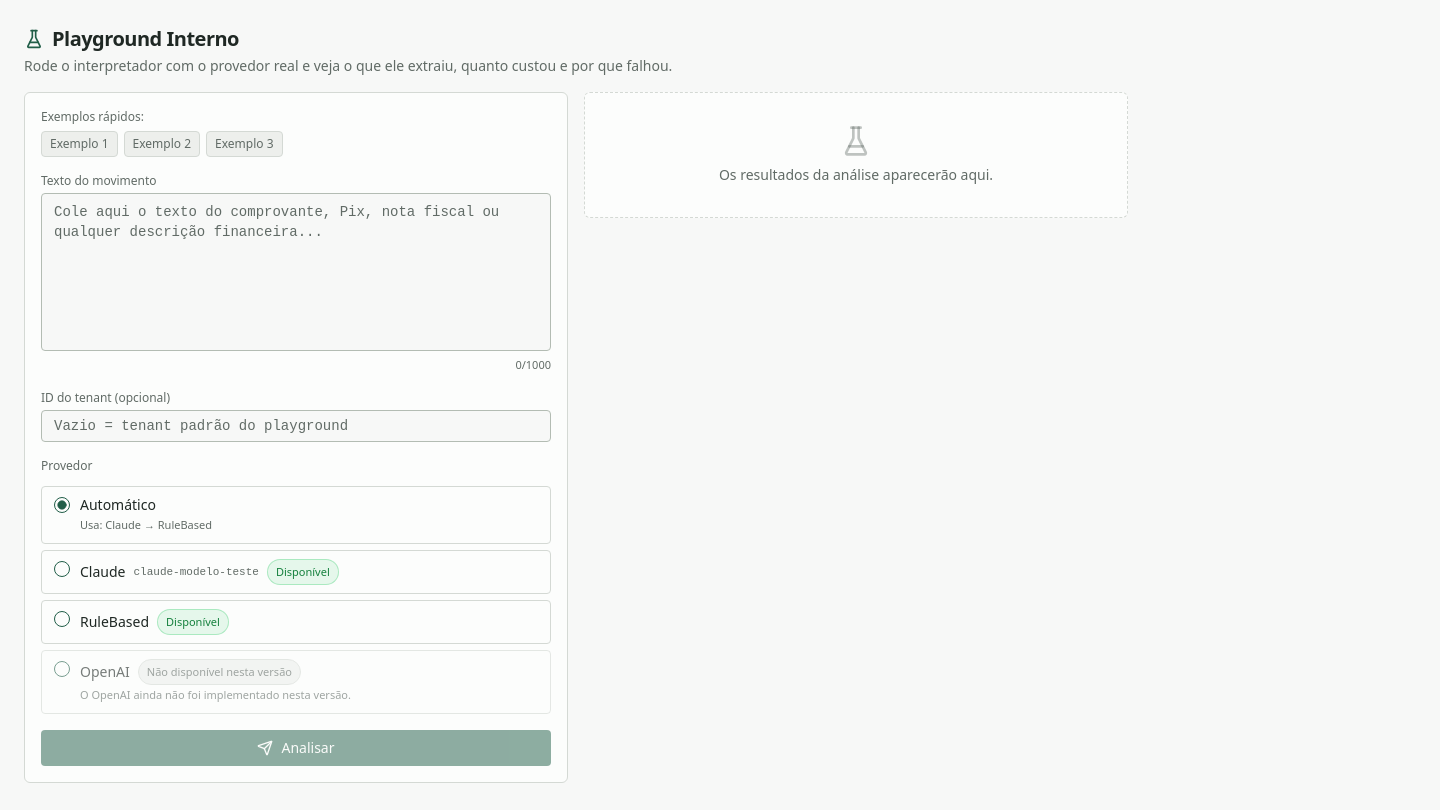
Test: AiPlaygroundPage › shows a provider failure (503) with message, code, reason and requestId
Click the radio button named "Claude" at (62, 568), box [54,560,70,576]
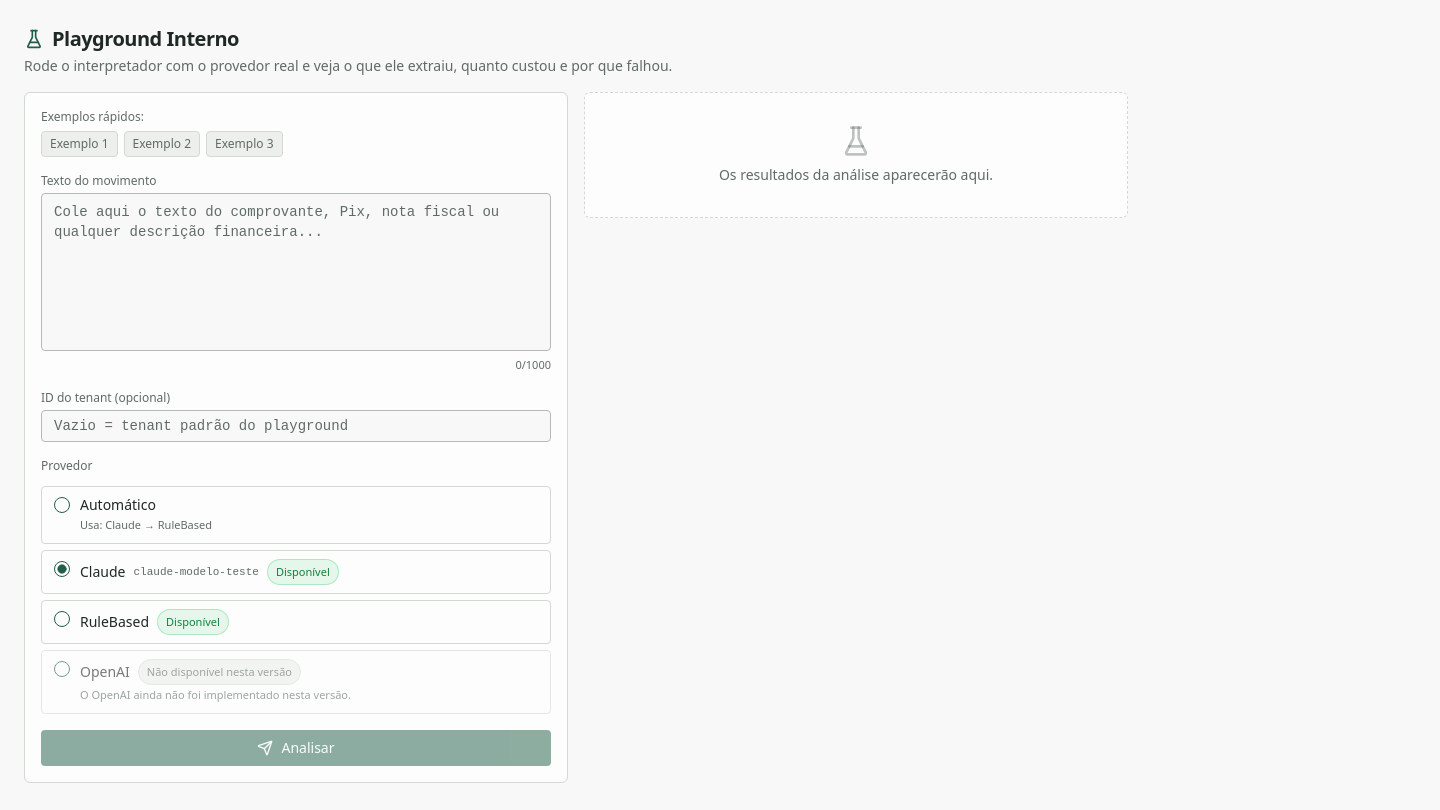
Replace the text in the text box labelled "Texto do movimento" with "Pix enviado em 07/05/2026 R$ 850,00" at (296, 272), box [41,193,551,351]
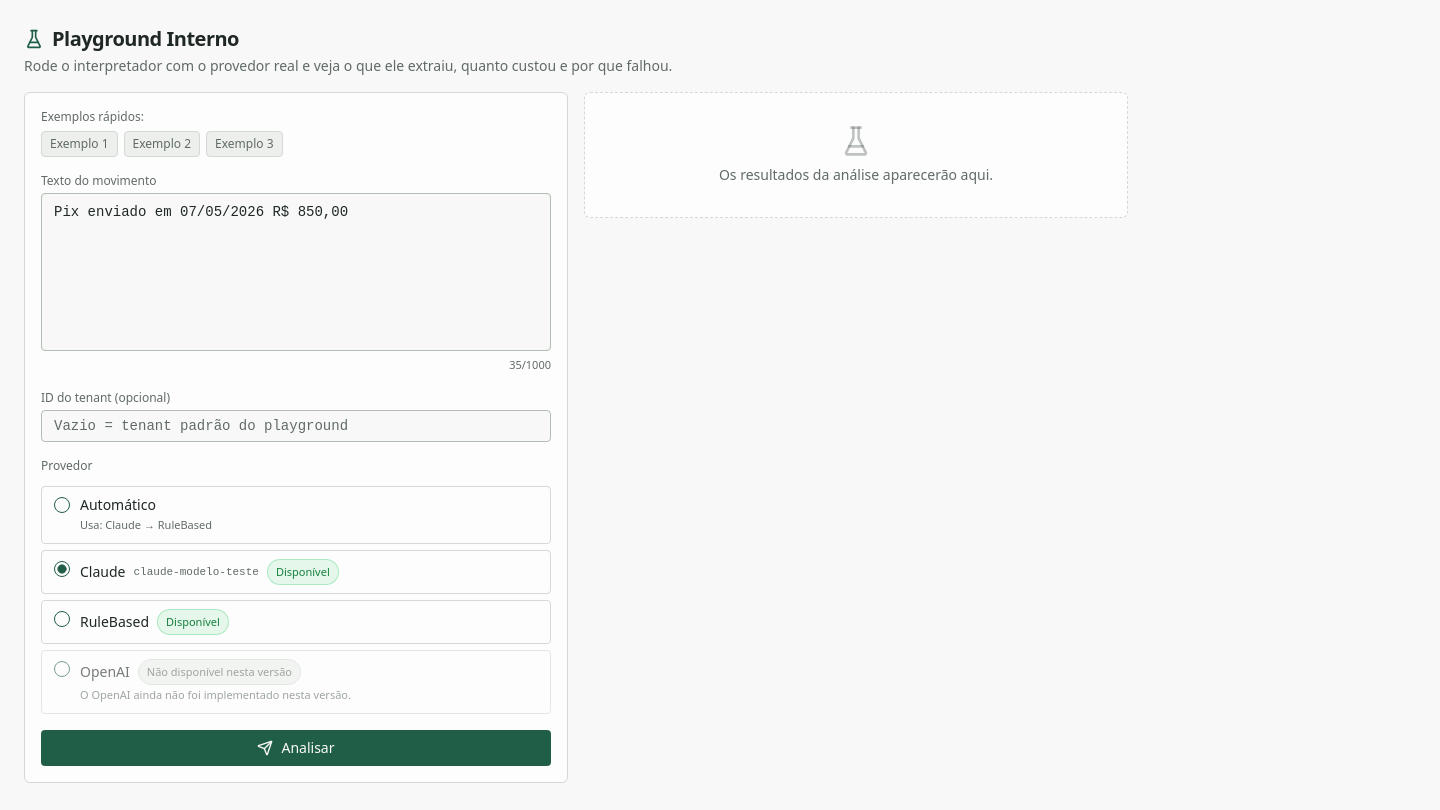
Click the button "Analisar" at (296, 748), box [41,730,551,766]
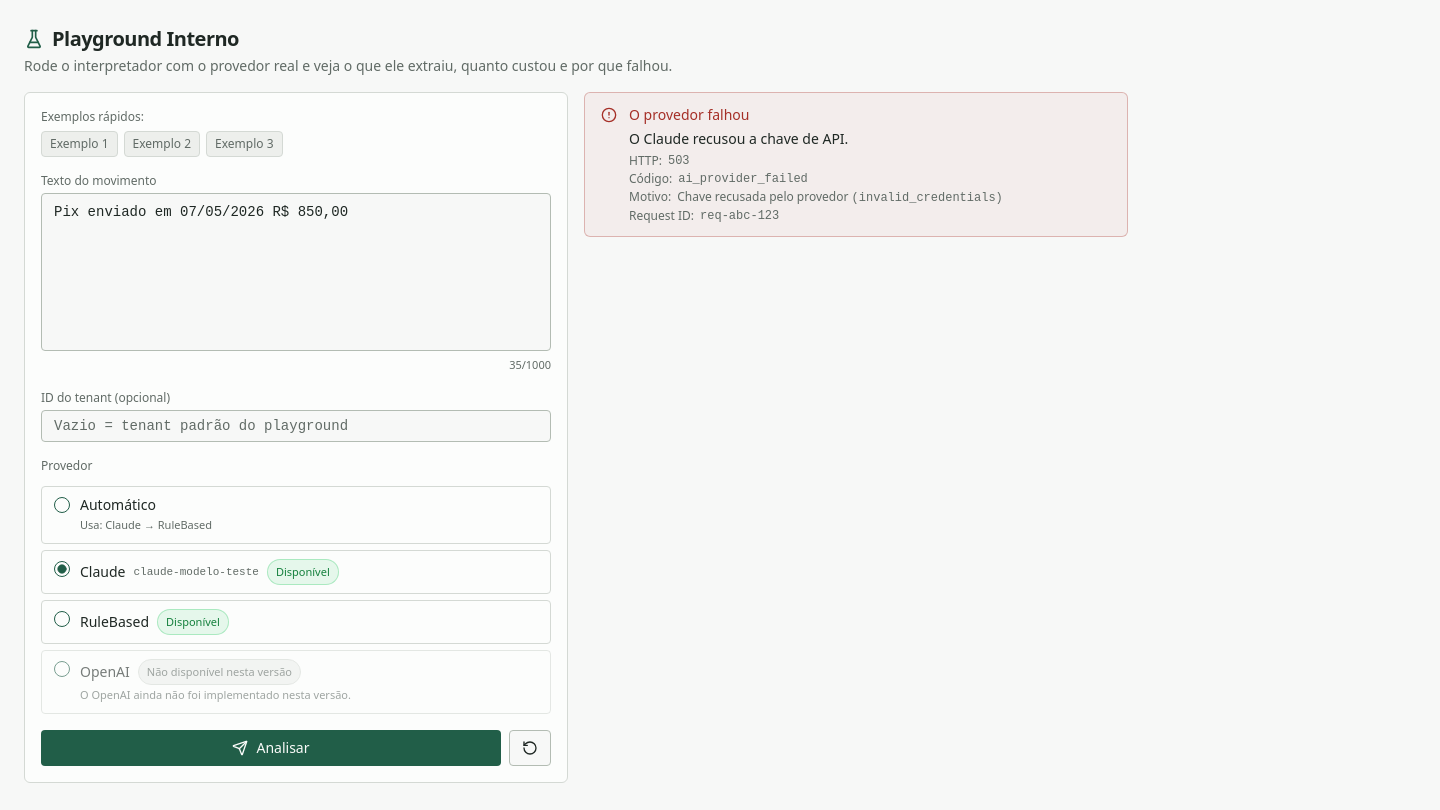
Check: the message shows "O provedor falhou", box [629,105,750,124]
Check: the message shows "O Claude recusou a chave de API.", box [629,129,848,148]
Check: the message shows "ai_provider_failed", box [678,172,808,186]
